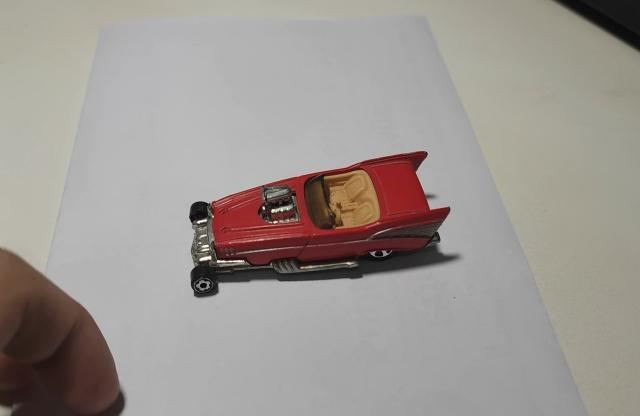03_V8: (191, 151, 451, 299)
